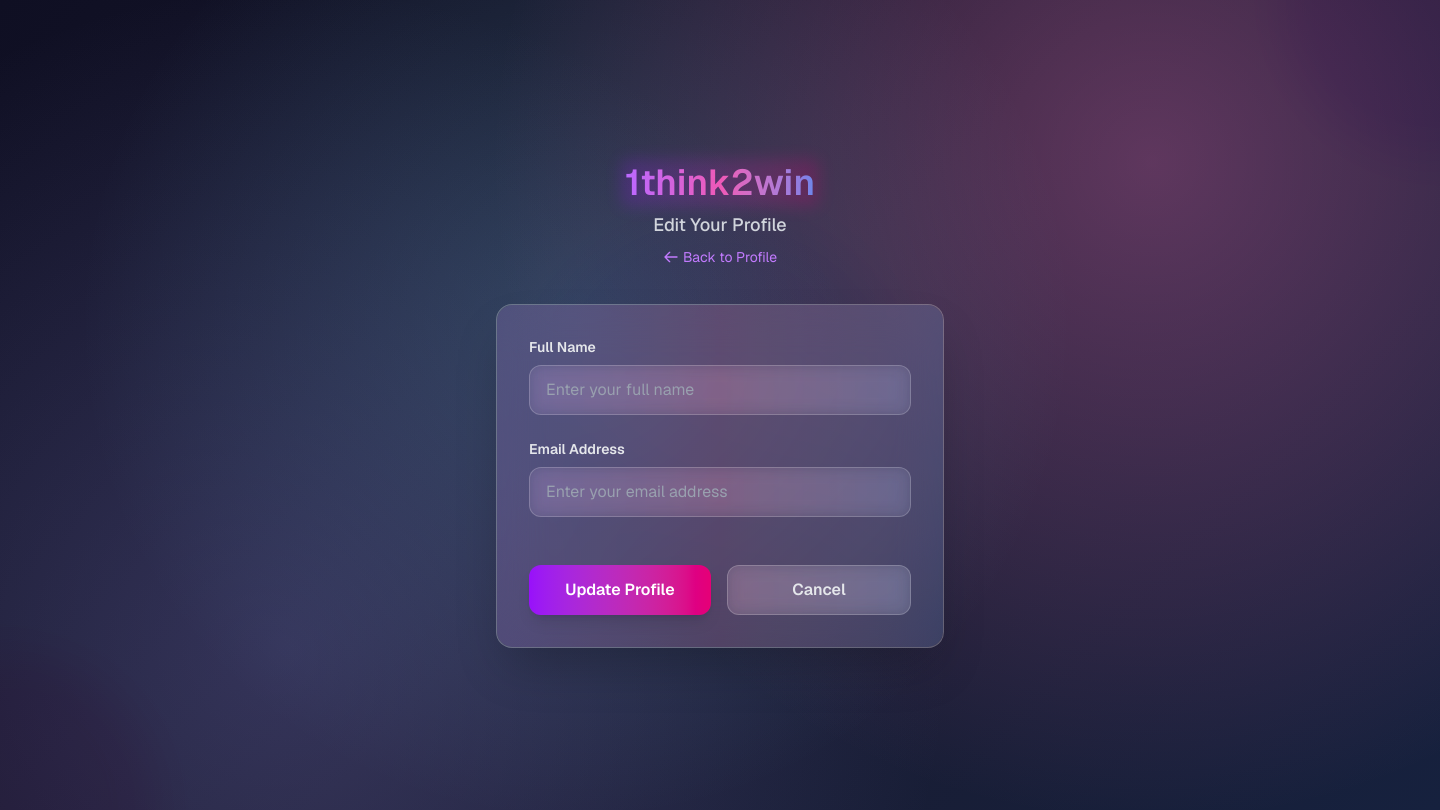
Test: edit profile page › shows a busy button, and renders before the profile loads
This screenshot has width=1440, height=810.
In the field labelled "Full Name": coordinates (720, 390) 529,364 -> 911,414, type "Sara Khan"
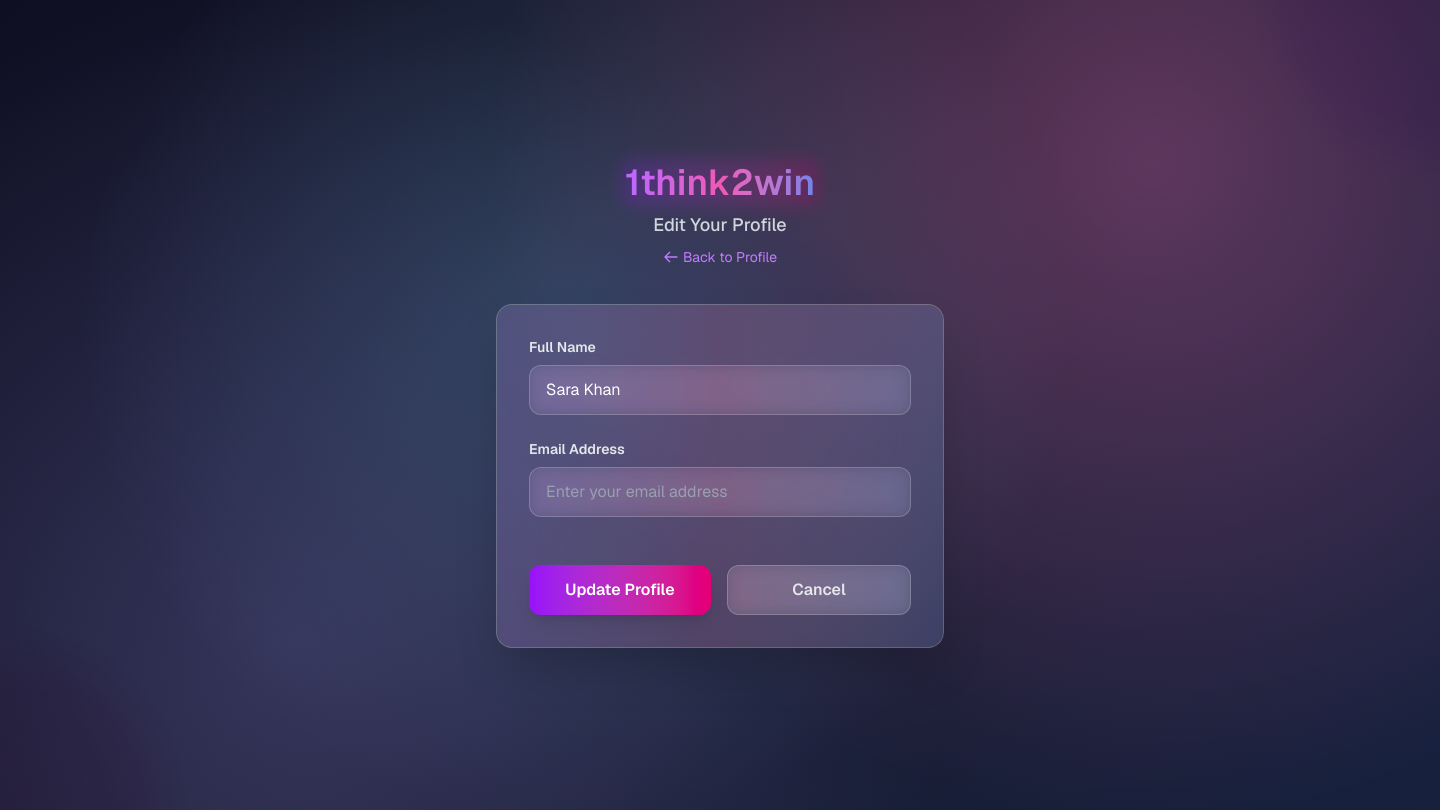
In the field labelled "Email Address": coordinates (720, 492) 529,466 -> 911,516, type "sara@x.com"
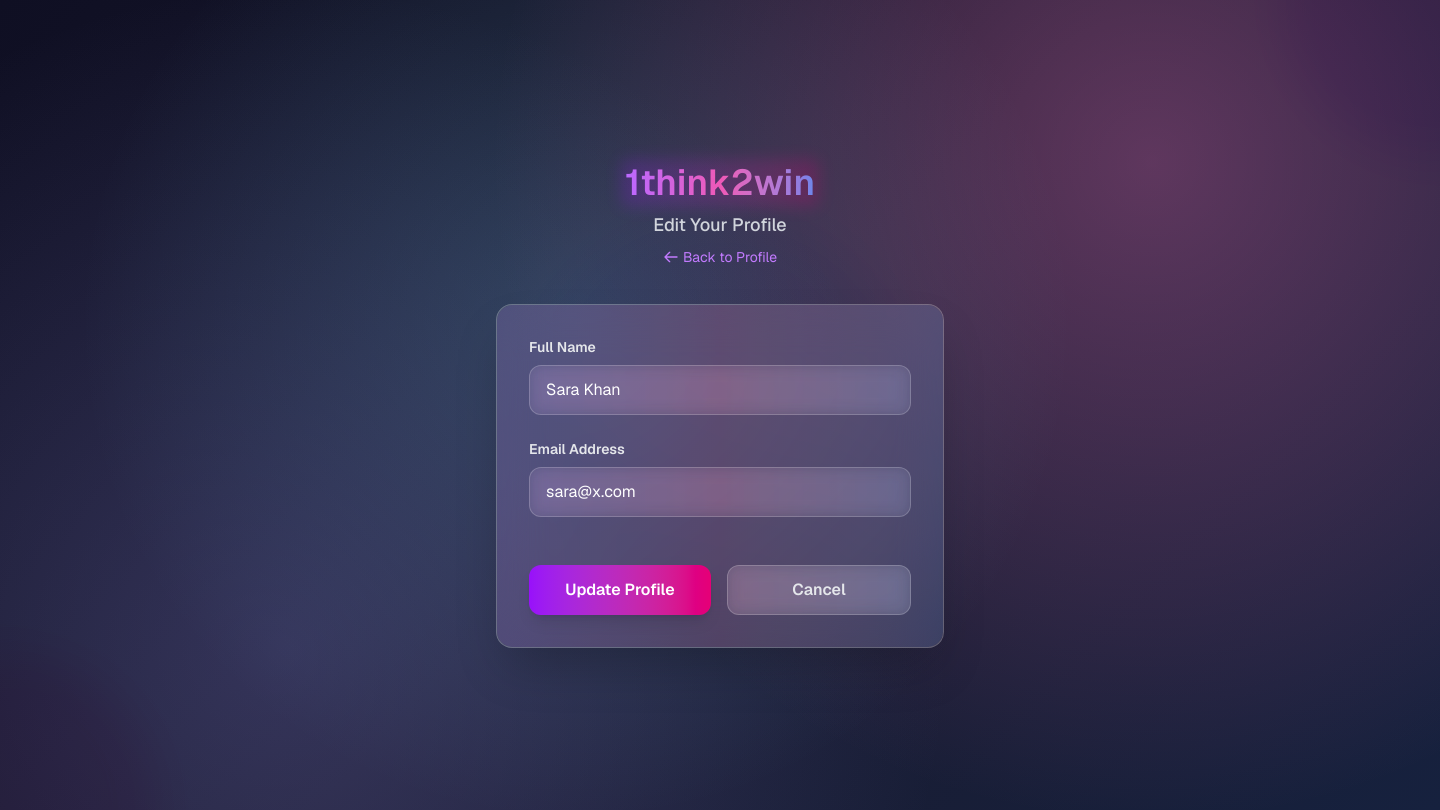
Submit the form "Update Profile", box 529,336 -> 911,614
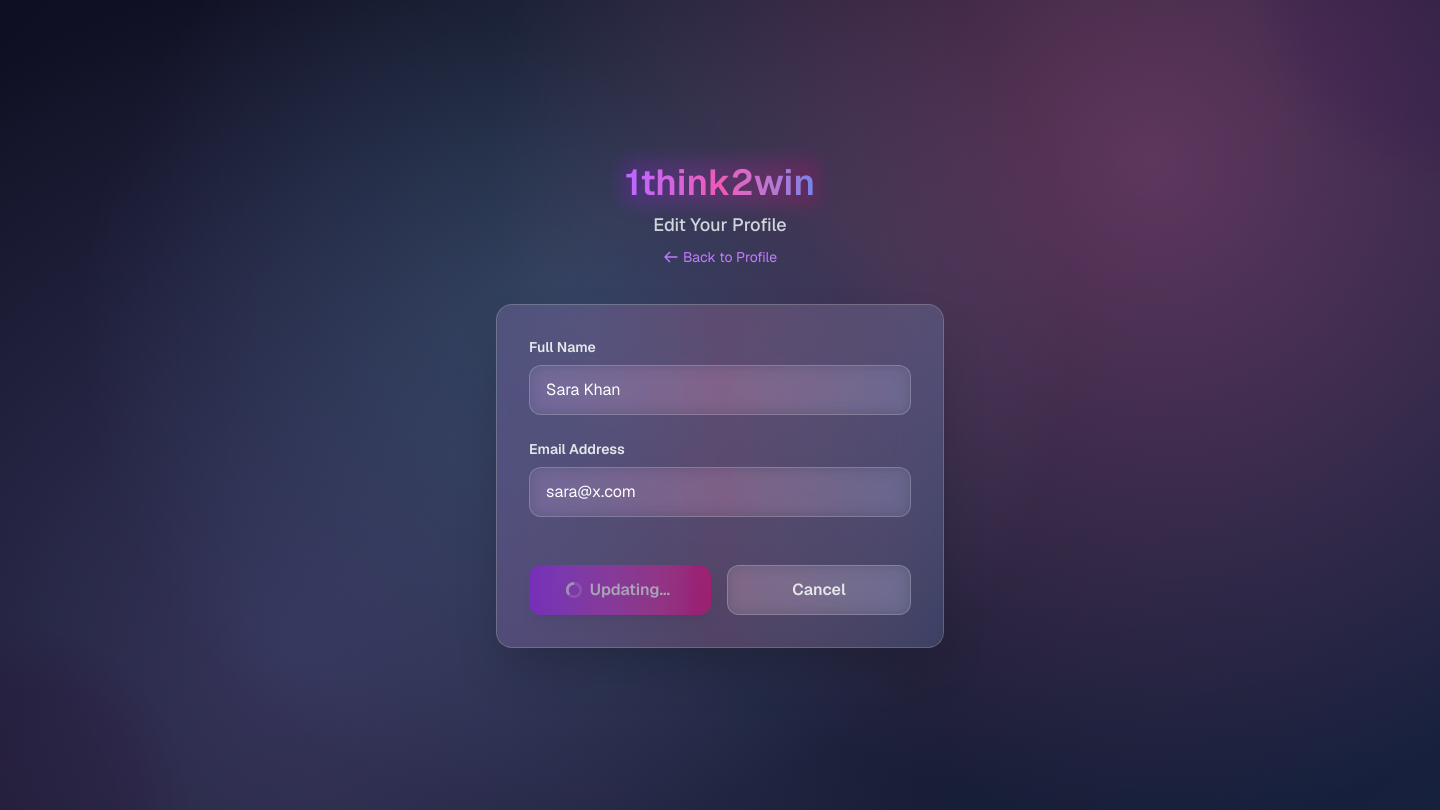
Expected: the button "Updating..." is disabled, 529,564 -> 711,614
